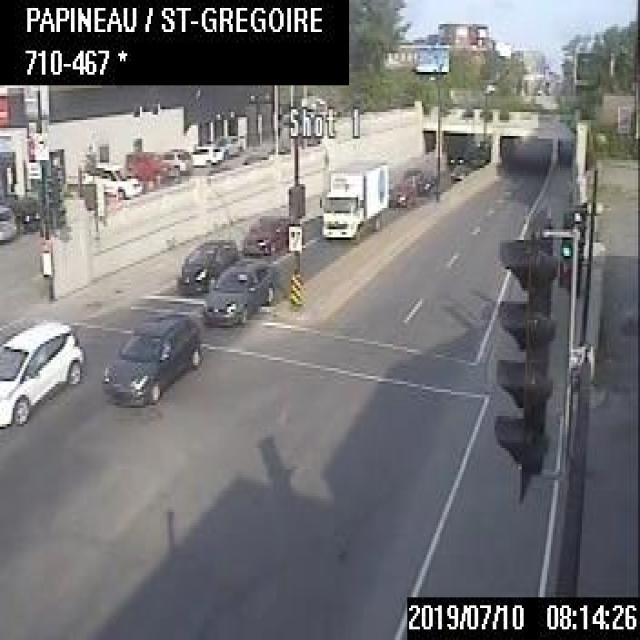vehicle: (98, 308, 198, 405), (0, 317, 84, 427), (316, 158, 389, 238), (199, 254, 275, 328), (174, 233, 237, 295), (239, 208, 296, 258), (80, 158, 142, 198), (121, 149, 169, 185), (2, 192, 39, 230), (158, 146, 191, 175), (186, 140, 220, 166), (0, 202, 16, 242), (214, 134, 240, 157), (448, 152, 466, 179)
